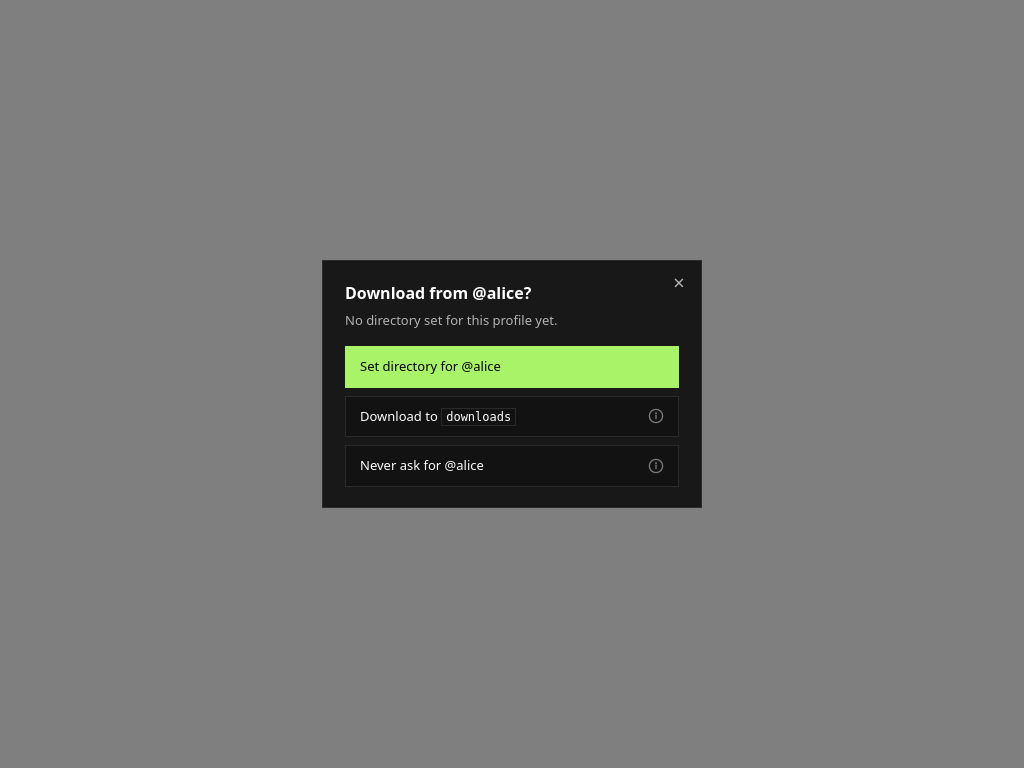
Test: NoDirPopup › flips to the edit view when 'Set directory' is clicked
Click the button "Set directory for @alice". click: (417, 366)
box: [345,346,679,388]
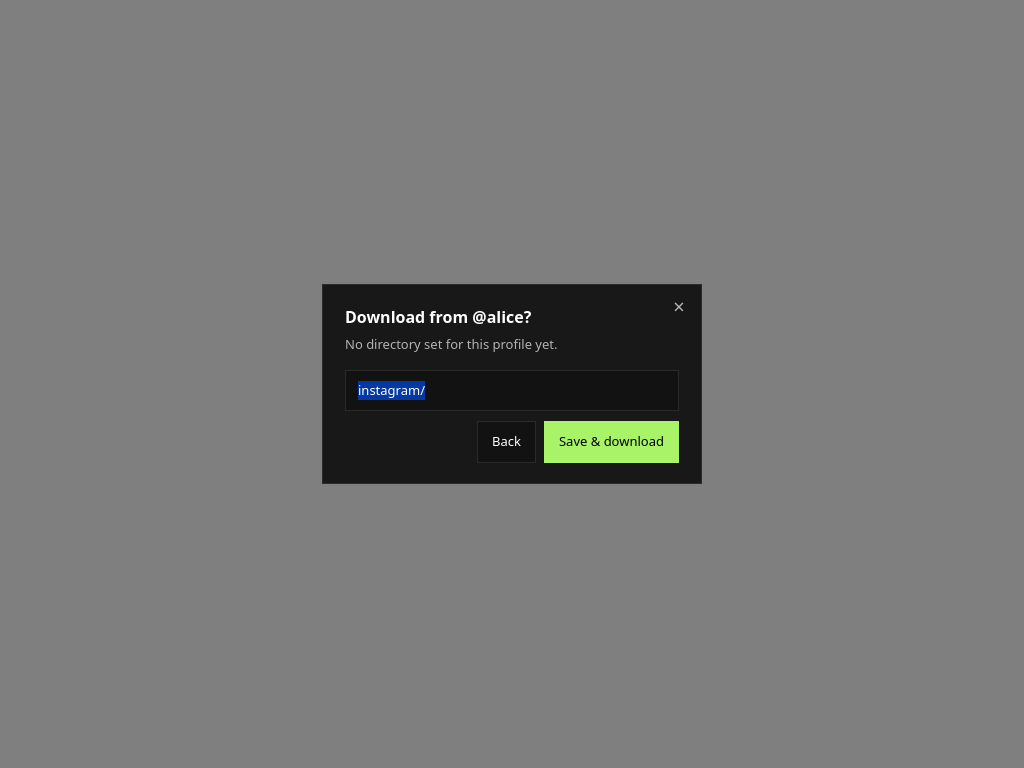
Expected: the button "Save & download" is shown, [544,421,679,463]
